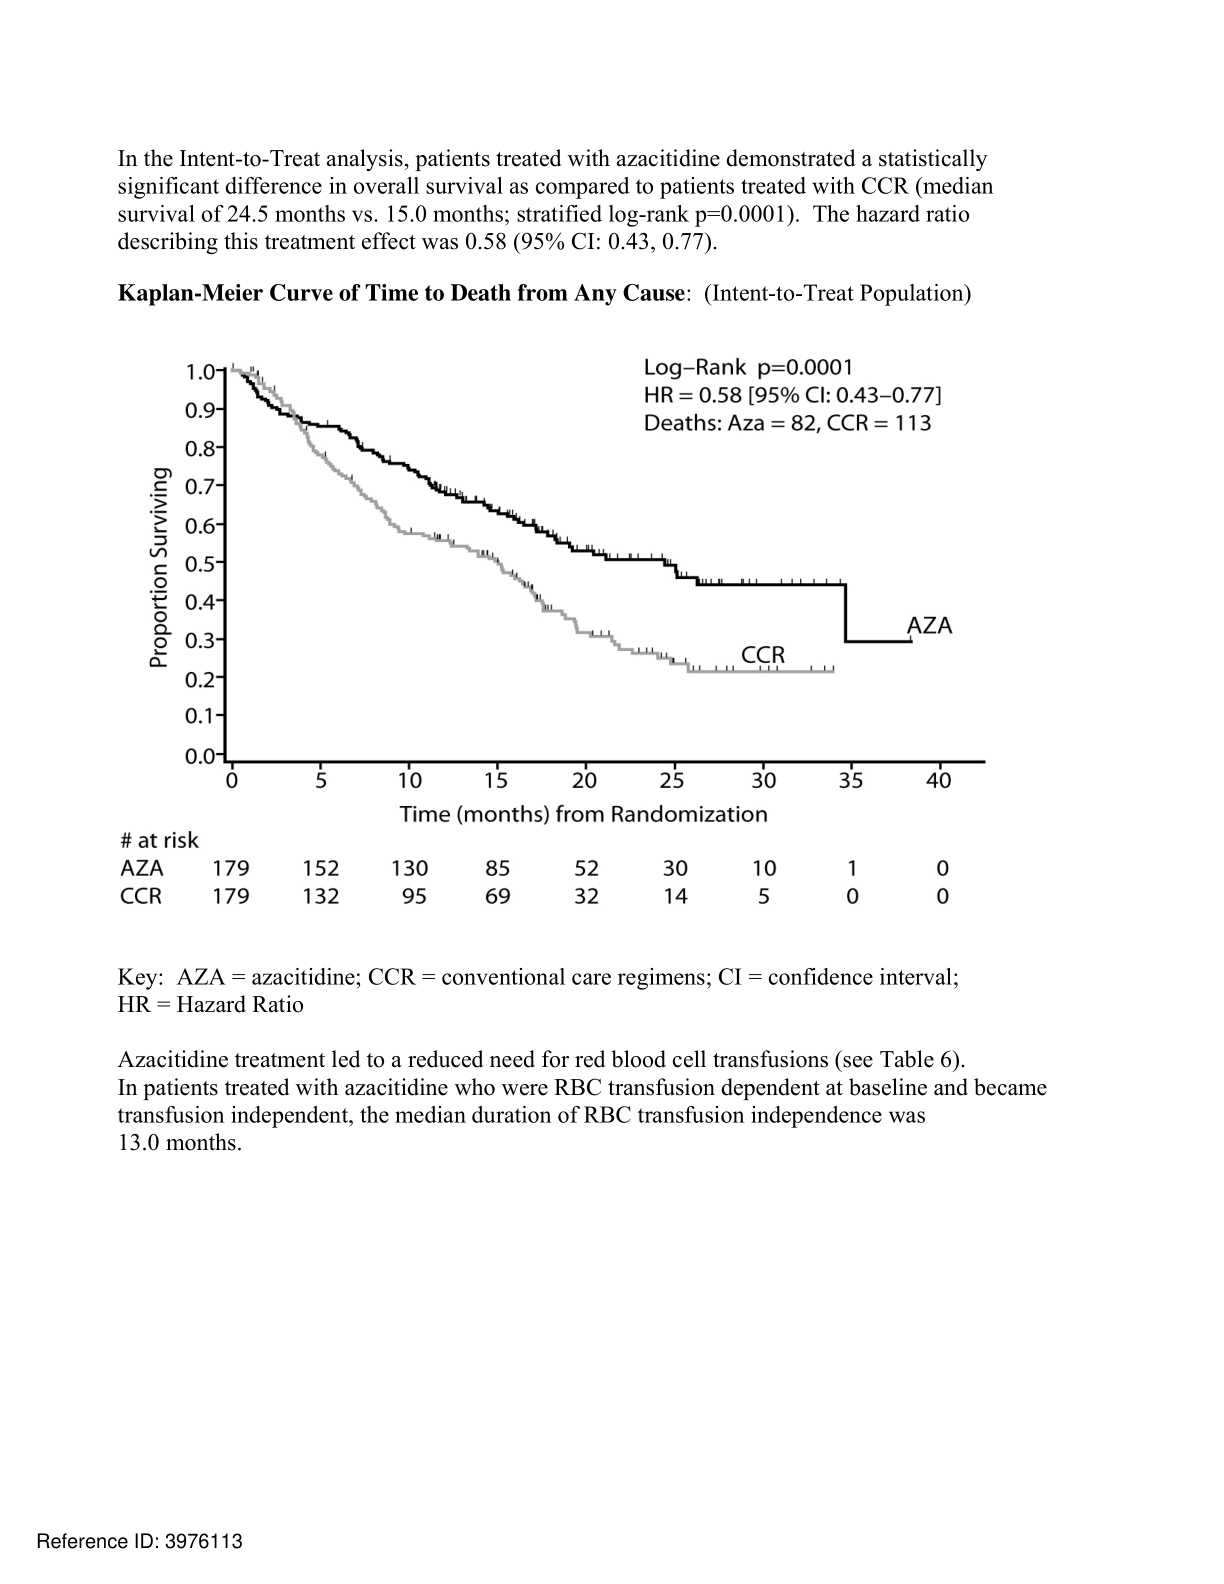nolines: (118, 831, 957, 908)
